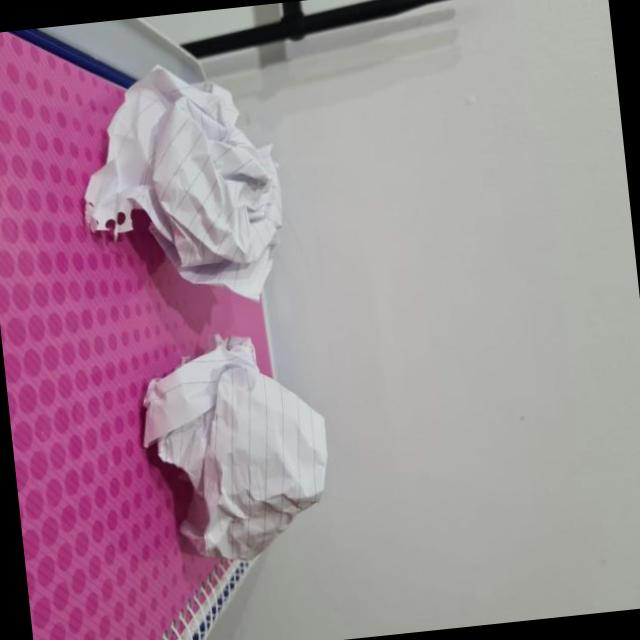cardboard paper: (85, 69, 282, 299), (144, 338, 327, 560)
